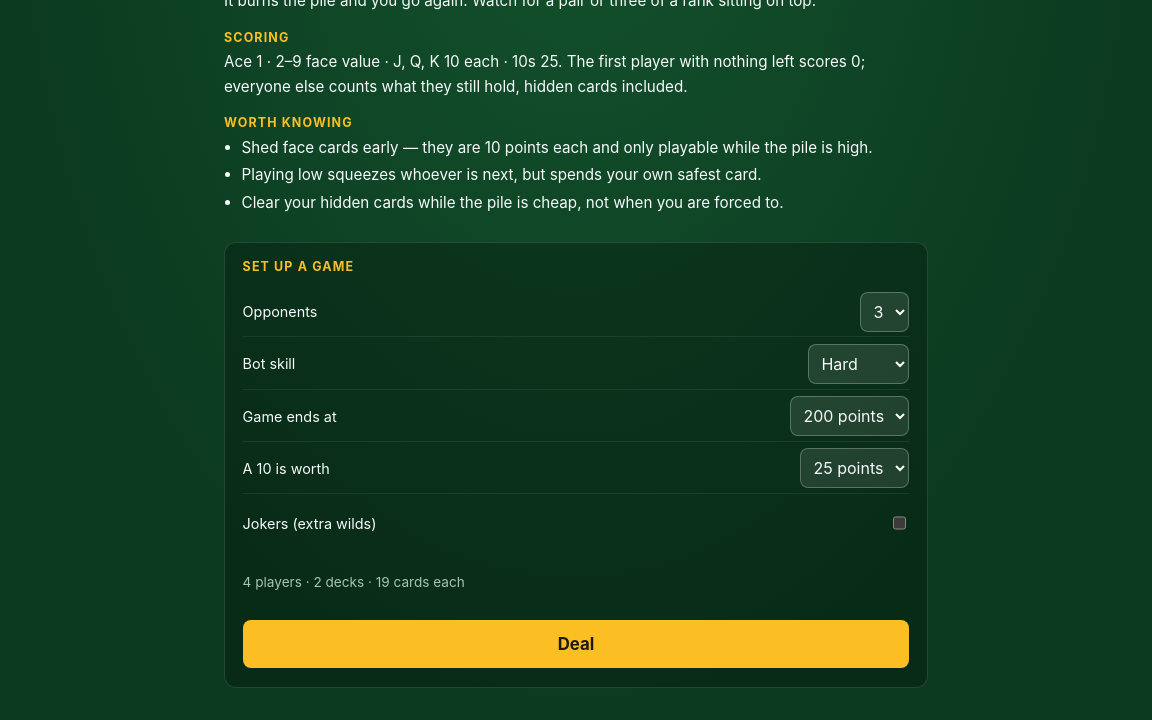
Test case: pacing › holds the bots still while paused and advances exactly one turn per step
(page scrolled)
Click the button "Deal" at (576, 644), box 243,620 -> 909,668
(page scrolled)
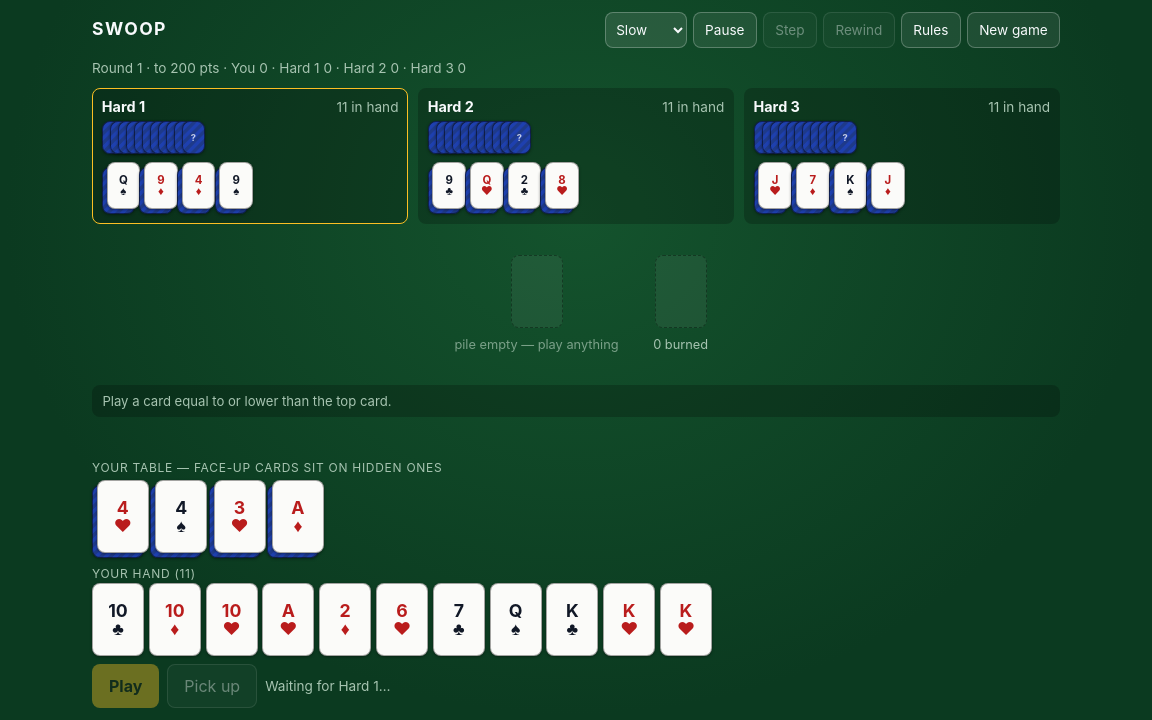
Click the button "Pause" at (725, 30), box 693,12 -> 757,48
Wait 30000 ms
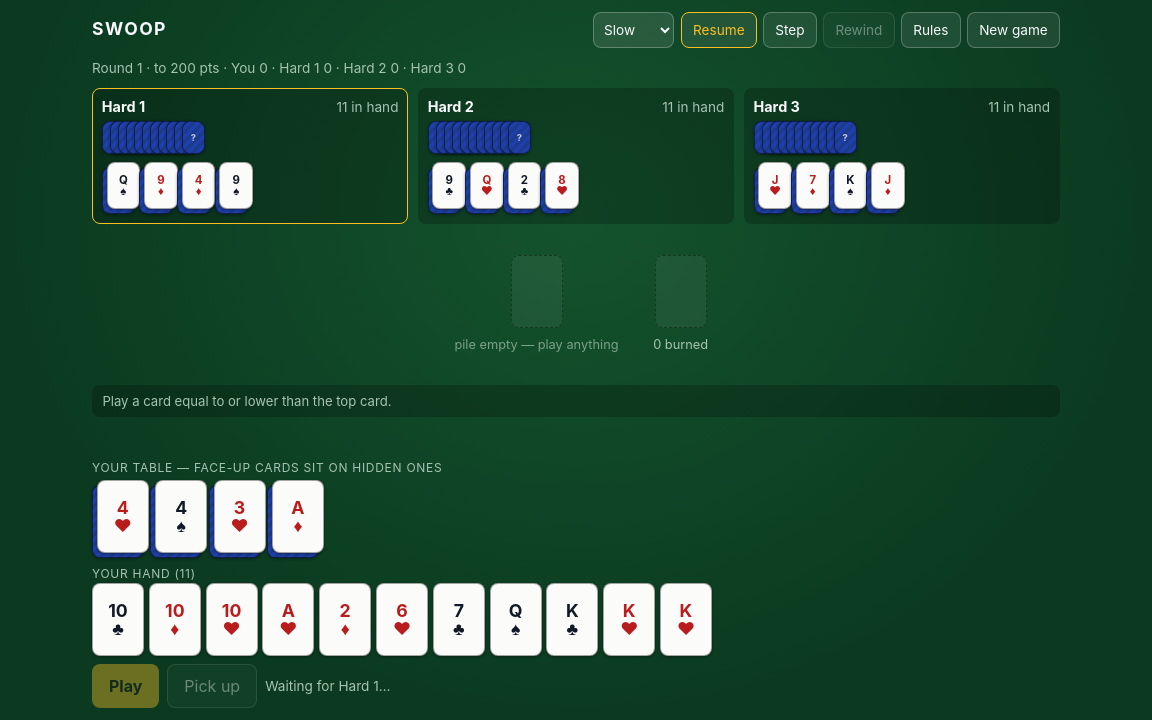
Expected: the text "Play a card equal to or lower than the top card." is shown, 102,393 -> 392,409
Click the button "Step" at (790, 30), box 763,12 -> 817,48
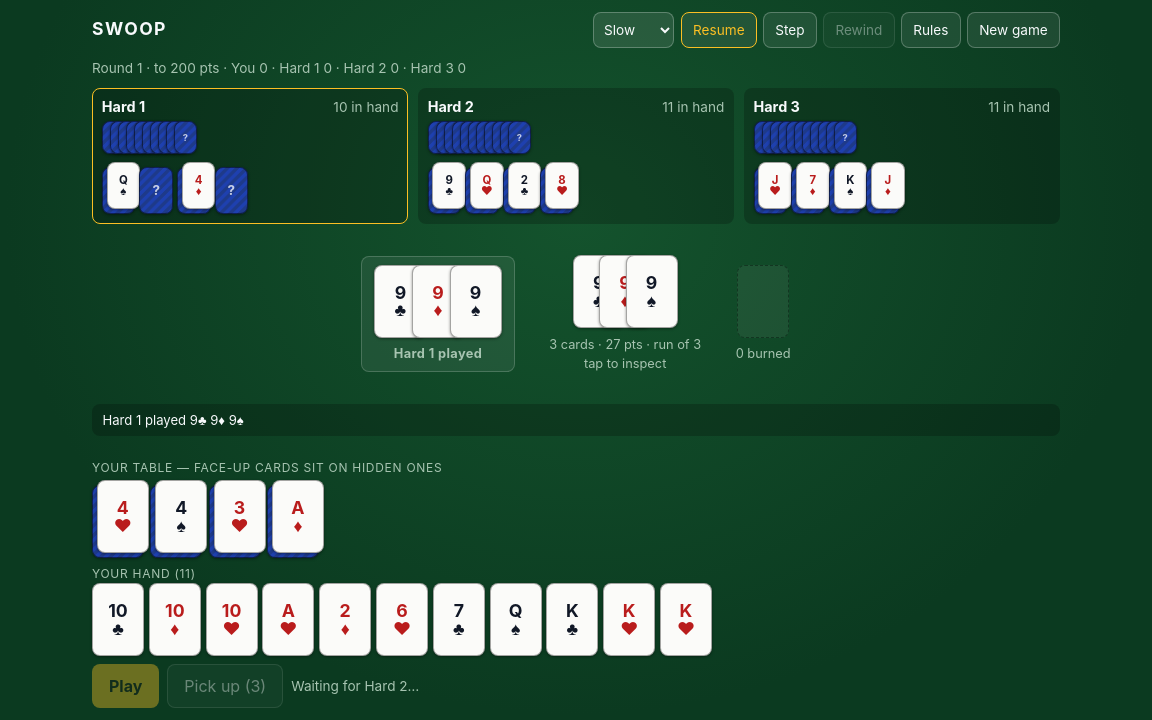
Expected: the text "Play a card equal to or lower than the top card" is gone
